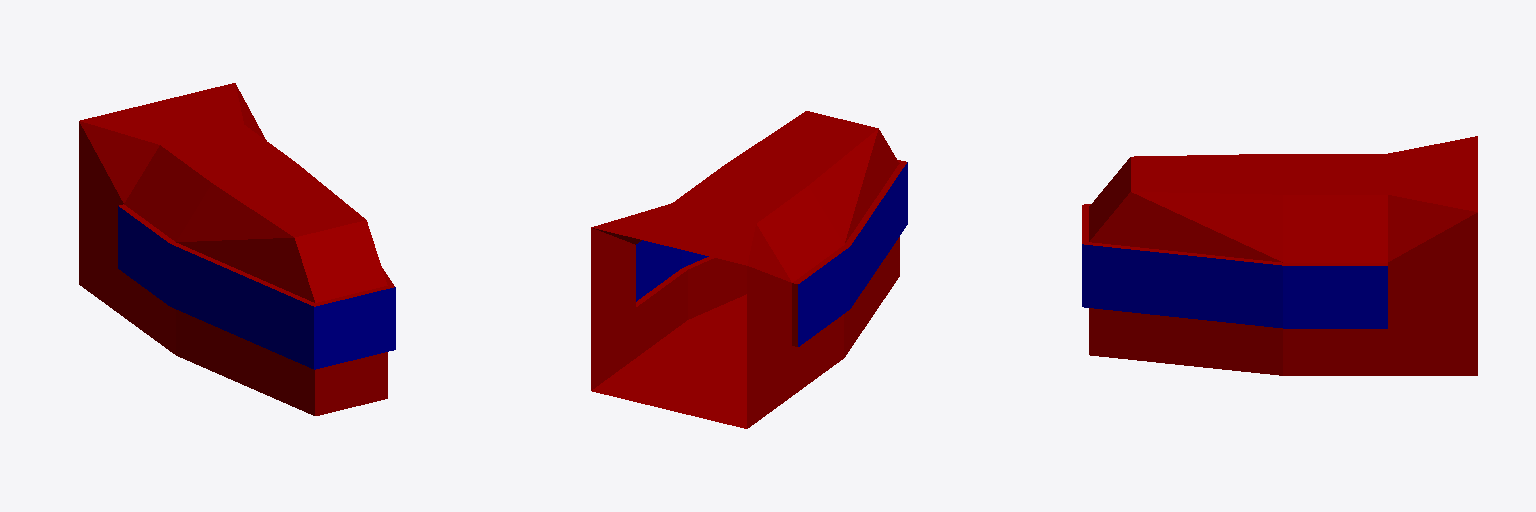
Rendered from Bridge_Interior.obj.
3 views of the same model, side by side, from view 1: azimuth 30°, elevation 25°; view 2: azimuth 150°, elevation 25°; view 3: azimuth 270°, elevation 25° (orthographic).
Visible parts, largest first — view 1: Cube.001_Cube.002; view 2: Cube.001_Cube.002; view 3: Cube.001_Cube.002.
Boxes of the visible parts, <box> form: Cube.001_Cube.002: <box>79,83,395,415</box>; Cube.001_Cube.002: <box>591,111,907,428</box>; Cube.001_Cube.002: <box>1082,136,1477,375</box>.
Bounding box in the file's own units: 2.8 × 2.6 × 5.7.